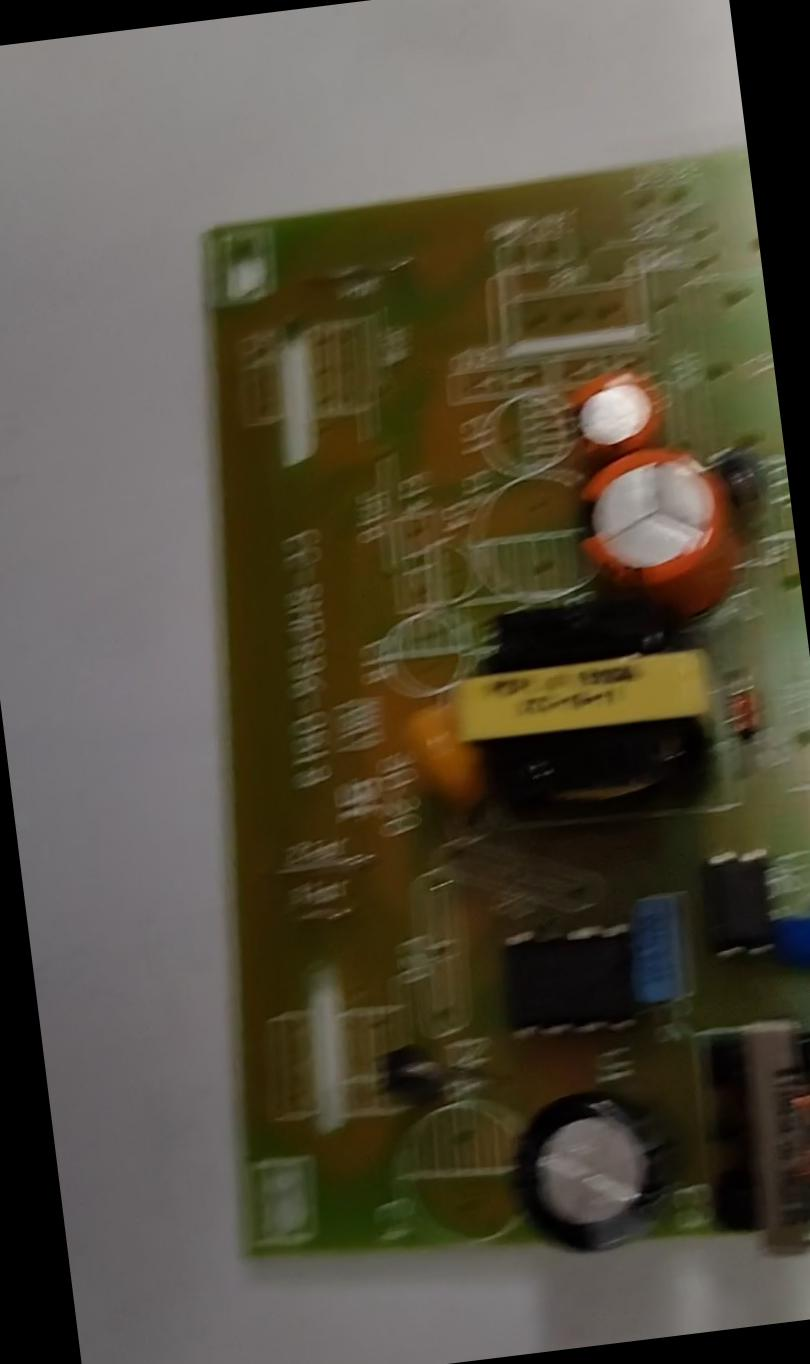Cap1: (572, 439, 738, 601)
Cap2: (562, 364, 666, 460)
Cap3: (516, 1078, 669, 1260)
MOSFET: (496, 911, 640, 1043)
Mov: (781, 898, 809, 977)
Transformer: (454, 593, 723, 821), (693, 1012, 809, 1266)
